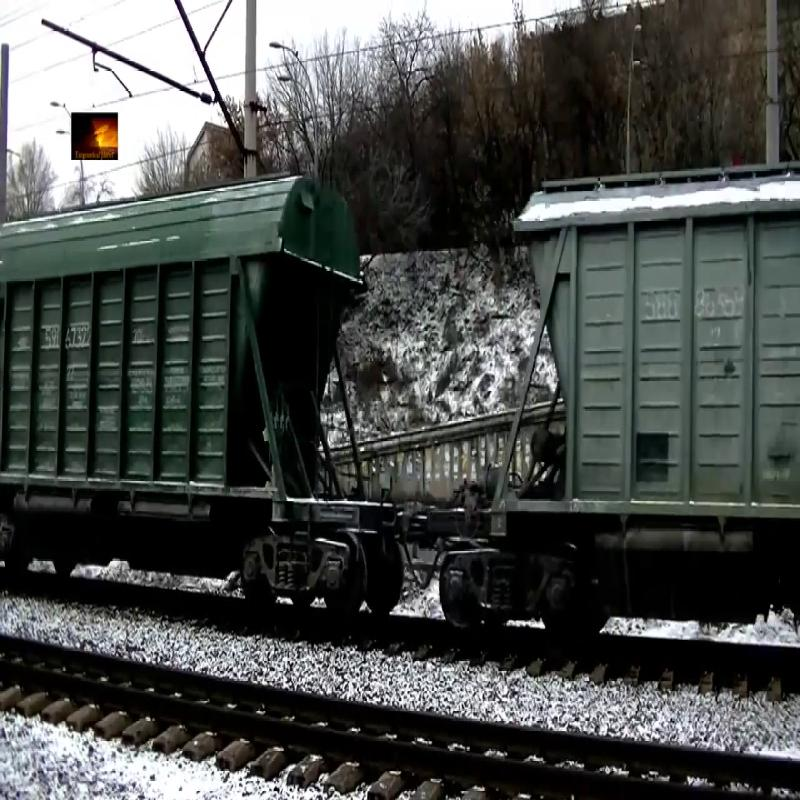train: (1, 170, 363, 544), (478, 157, 800, 553)
